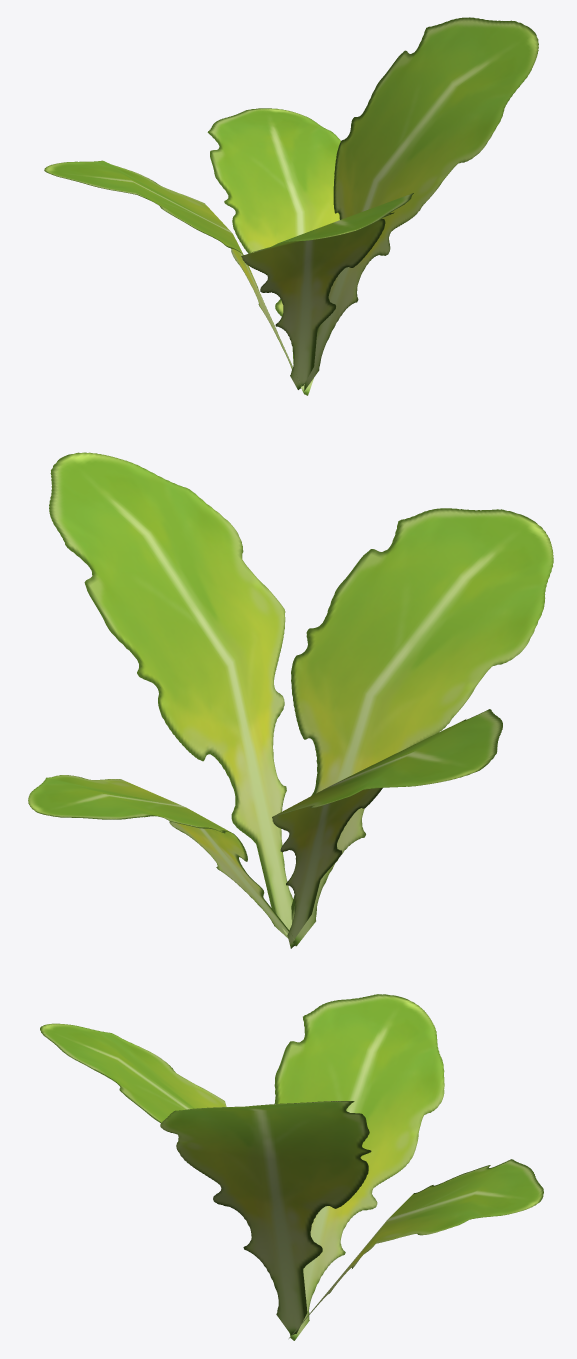
Rendered from plant_lettuce_S1.fbx.
3 views of the same model, one above another, from view 1: azimuth 30°, elevation 25°; view 2: azimuth 150°, elevation 25°; view 3: azimuth 270°, elevation 25° (orthographic). The views are drawn at different scales.
Visible parts, largest first — view 1: plant_lettuce_S1; view 2: plant_lettuce_S1; view 3: plant_lettuce_S1.
Part boxes in pixels (<box>): plant_lettuce_S1: <box>44,17,538,395</box>; plant_lettuce_S1: <box>28,452,553,948</box>; plant_lettuce_S1: <box>40,994,543,1340</box>.
Bounding box in the file's own units: 0.1497 × 0.1072 × 0.1504.
